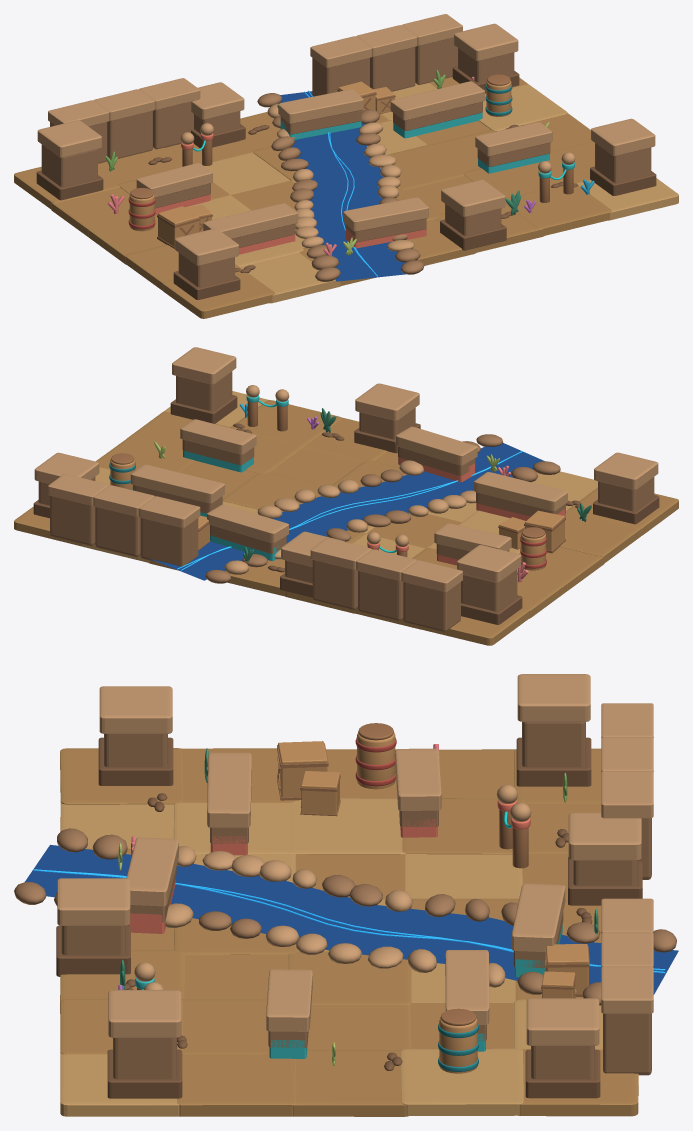
The model's file is baby_warz_arena_optimized.glb.
3 renders of one model, top to bottom at view 1: azimuth 30°, elevation 25°; view 2: azimuth 150°, elevation 25°; view 3: azimuth 270°, elevation 25°, orthographic. The views are drawn at different scales.
Parts seen in each view (by area): view 1: BATCH_Sandstone_Cap, BATCH_Sand_Warm, BATCH_Sandstone, BATCH_Sand_Light, BATCH_Hazard_Water, BATCH_Sandstone_Shadow, BATCH_Wood_Light, BATCH_Wood, BATCH_Team_Teal, BATCH_Team_Coral; view 2: BATCH_Sandstone_Cap, BATCH_Sand_Warm, BATCH_Sandstone, BATCH_Hazard_Water, BATCH_Sandstone_Shadow, BATCH_Sand_Light, BATCH_Wood_Light, BATCH_Wood, BATCH_Team_Teal, BATCH_Team_Coral, BATCH_Hazard_Ripple, BATCH_Foliage_Dark; view 3: BATCH_Sand_Warm, BATCH_Sandstone_Cap, BATCH_Sand_Light, BATCH_Sandstone, BATCH_Hazard_Water, BATCH_Sandstone_Shadow, BATCH_Wood_Light, BATCH_Wood, BATCH_Team_Coral, BATCH_Hazard_Ripple, BATCH_Team_Teal, BATCH_Team_Teal_Dark (+1 smaller).
Boxes of the visible parts, bbox=[...] form: BATCH_Sandstone_Cap: bbox=[37, 14, 655, 265]; BATCH_Sand_Warm: bbox=[14, 77, 611, 318]; BATCH_Sandstone: bbox=[41, 37, 651, 287]; BATCH_Sand_Light: bbox=[185, 83, 678, 303]; BATCH_Hazard_Water: bbox=[280, 91, 407, 281]; BATCH_Sandstone_Shadow: bbox=[36, 66, 656, 299]; BATCH_Wood_Light: bbox=[129, 80, 511, 246]; BATCH_Wood: bbox=[130, 74, 573, 248]; BATCH_Team_Teal: bbox=[280, 112, 574, 178]; BATCH_Team_Coral: bbox=[154, 133, 426, 254]; BATCH_Sandstone_Cap: bbox=[34, 347, 658, 591]; BATCH_Sand_Warm: bbox=[14, 400, 678, 645]; BATCH_Sandstone: bbox=[38, 371, 654, 632]; BATCH_Hazard_Water: bbox=[149, 443, 544, 580]; BATCH_Sandstone_Shadow: bbox=[33, 395, 659, 624]; BATCH_Sand_Light: bbox=[83, 391, 597, 562]; BATCH_Wood_Light: bbox=[110, 459, 564, 570]; BATCH_Wood: bbox=[111, 396, 565, 556]; BATCH_Team_Teal: bbox=[183, 395, 288, 560]; BATCH_Team_Coral: bbox=[367, 457, 565, 565]; BATCH_Hazard_Ripple: bbox=[177, 451, 522, 570]; BATCH_Foliage_Dark: bbox=[243, 408, 591, 561]; BATCH_Sand_Warm: bbox=[60, 748, 638, 1116]; BATCH_Sandstone_Cap: bbox=[57, 674, 653, 1045]; BATCH_Sand_Light: bbox=[60, 798, 602, 1116]; BATCH_Sandstone: bbox=[14, 722, 676, 1079]; BATCH_Hazard_Water: bbox=[25, 844, 678, 994]; BATCH_Sandstone_Shadow: bbox=[56, 737, 642, 1098]; BATCH_Wood_Light: bbox=[278, 732, 588, 1073]; BATCH_Wood: bbox=[137, 723, 589, 1025]; BATCH_Team_Coral: bbox=[128, 800, 530, 933]; BATCH_Hazard_Ripple: bbox=[33, 869, 665, 973]; BATCH_Team_Teal: bbox=[135, 924, 562, 1058]; BATCH_Team_Teal_Dark: bbox=[438, 1023, 478, 1071].
Size of the model in its own units: 18.98 by 2.35 by 14.95.
